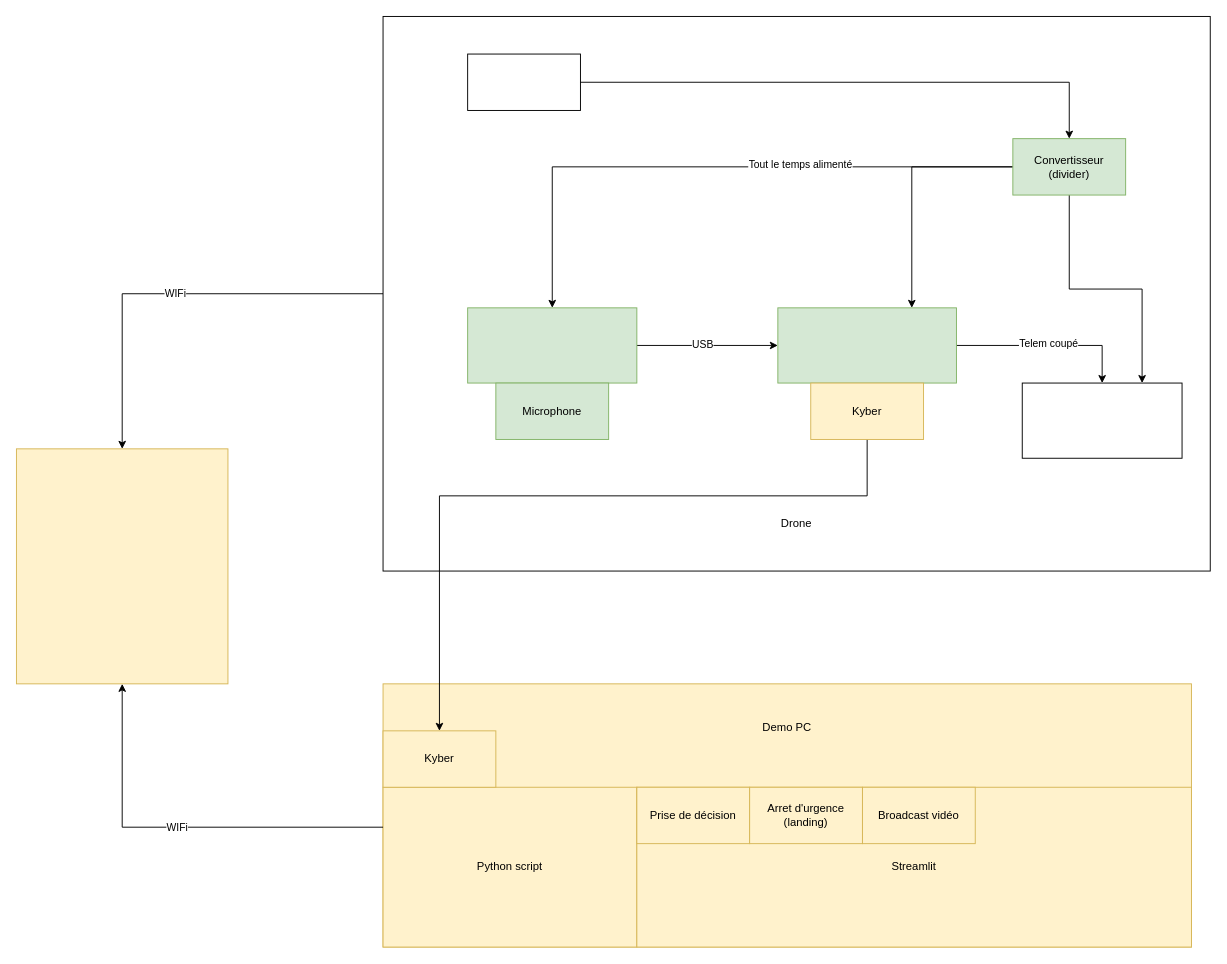
Some shapes in this 1227 by 964 pixel diagram are drawn without their labels. The centre of each missing label's shape, as x and y in pixels:
Batterie: point (523, 81)
ECU FC Antennas: point (1101, 420)
FPGA (Detection amplitude+sonograme): point (552, 345)
RaspberryPi (Confirmation cible, reconnaissance image): point (866, 345)
Router: point (122, 566)
